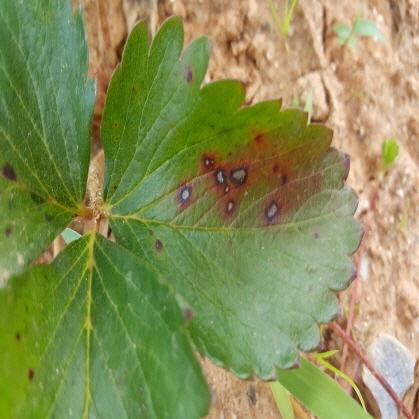Leaf Spot: (99, 14, 365, 383), (0, 230, 211, 418), (0, 0, 98, 287)
